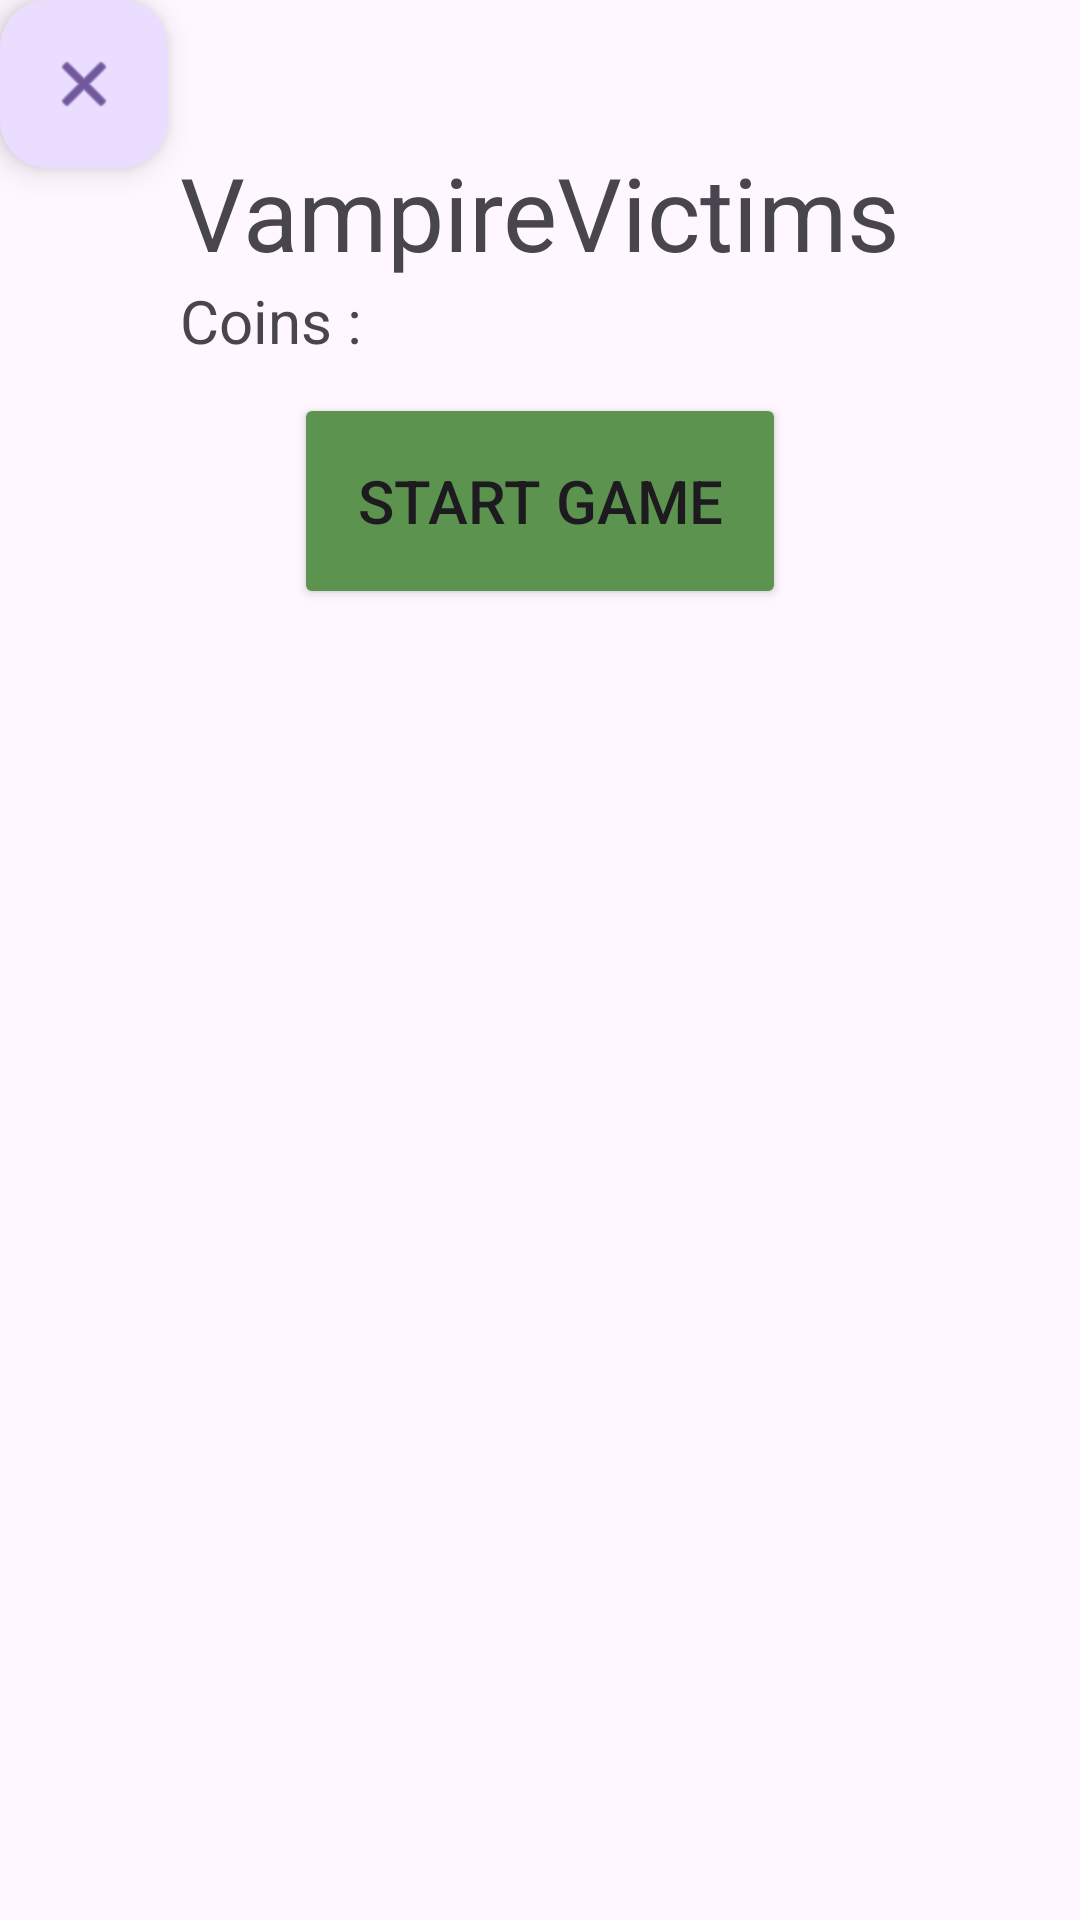

Point at icon controls on the screen. Image size 1080×1920, points as (x,y).
close clear cancel: (84,84)
